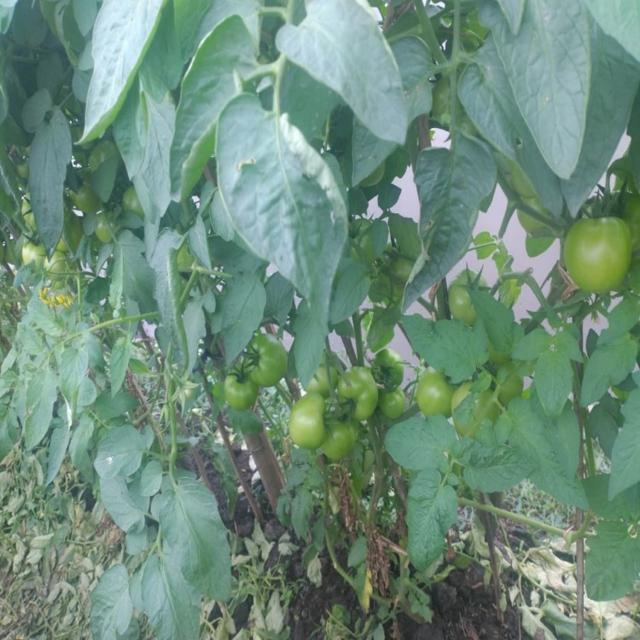tomato: (566, 215, 633, 297), (450, 383, 501, 450), (338, 366, 385, 419), (592, 190, 640, 238), (449, 267, 489, 318), (248, 334, 289, 383), (291, 391, 326, 446), (415, 370, 451, 420), (320, 421, 368, 457), (311, 349, 346, 393), (222, 373, 260, 413), (79, 135, 119, 170), (374, 347, 408, 385), (382, 387, 409, 422), (45, 248, 72, 283), (72, 185, 102, 216), (24, 233, 46, 269), (126, 185, 149, 218), (92, 219, 119, 245), (23, 190, 39, 229)
